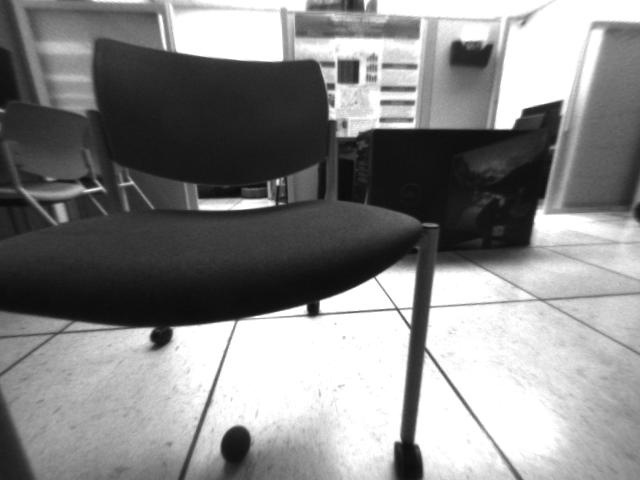dogtoy: (215, 416, 258, 470)
